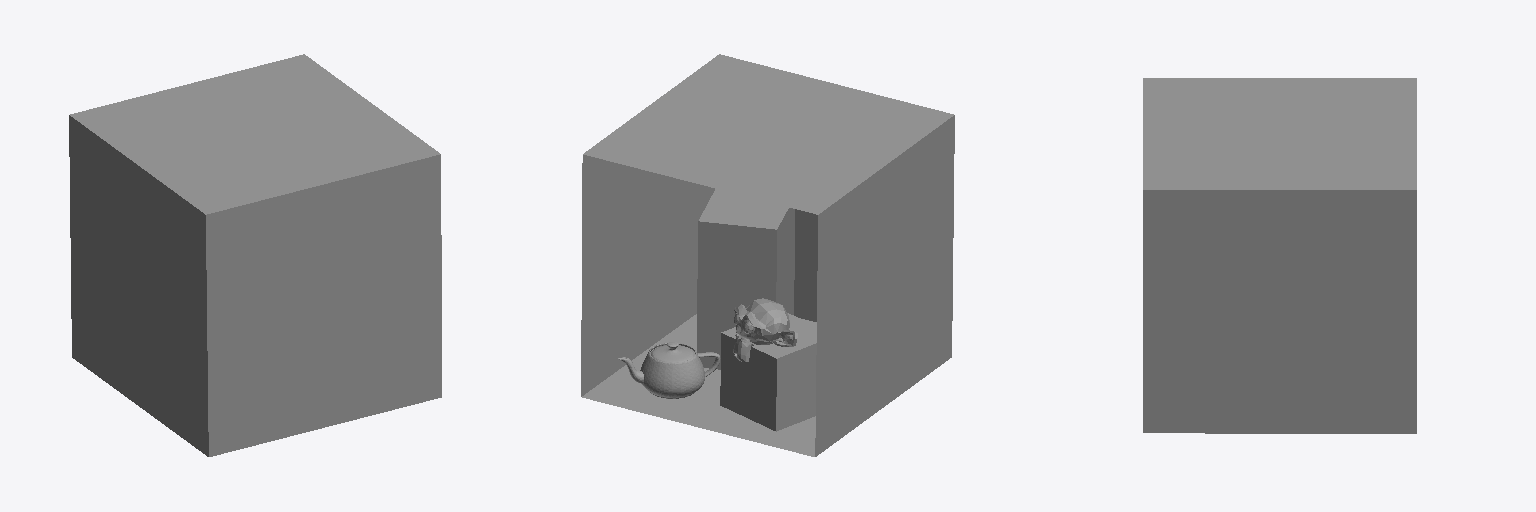
Rendered from competition.obj.
3 renders of one model, left to right at view 1: azimuth 30°, elevation 25°; view 2: azimuth 150°, elevation 25°; view 3: azimuth 270°, elevation 25°, orthographic.
Visible parts, largest first — view 1: back_wall, green_wall, ceiling; view 2: green_wall, ceiling, red_wall, tall_block, short_block, floor, teapot.005, Suzanne.001, back_wall; view 3: red_wall, ceiling.
Part boxes in pixels (bbox=[...]): back_wall: bbox=[206, 154, 441, 456]; green_wall: bbox=[69, 115, 208, 456]; ceiling: bbox=[70, 54, 439, 214]; green_wall: bbox=[815, 115, 954, 456]; ceiling: bbox=[583, 54, 953, 214]; red_wall: bbox=[581, 155, 714, 396]; tall_block: bbox=[697, 189, 794, 369]; short_block: bbox=[720, 313, 816, 431]; floor: bbox=[582, 314, 816, 456]; teapot.005: bbox=[618, 342, 720, 398]; Suzanne.001: bbox=[733, 298, 797, 362]; back_wall: bbox=[794, 209, 817, 321]; red_wall: bbox=[1143, 190, 1416, 433]; ceiling: bbox=[1143, 78, 1416, 189].
Size of the model in its own units: 560 by 556 by 559.